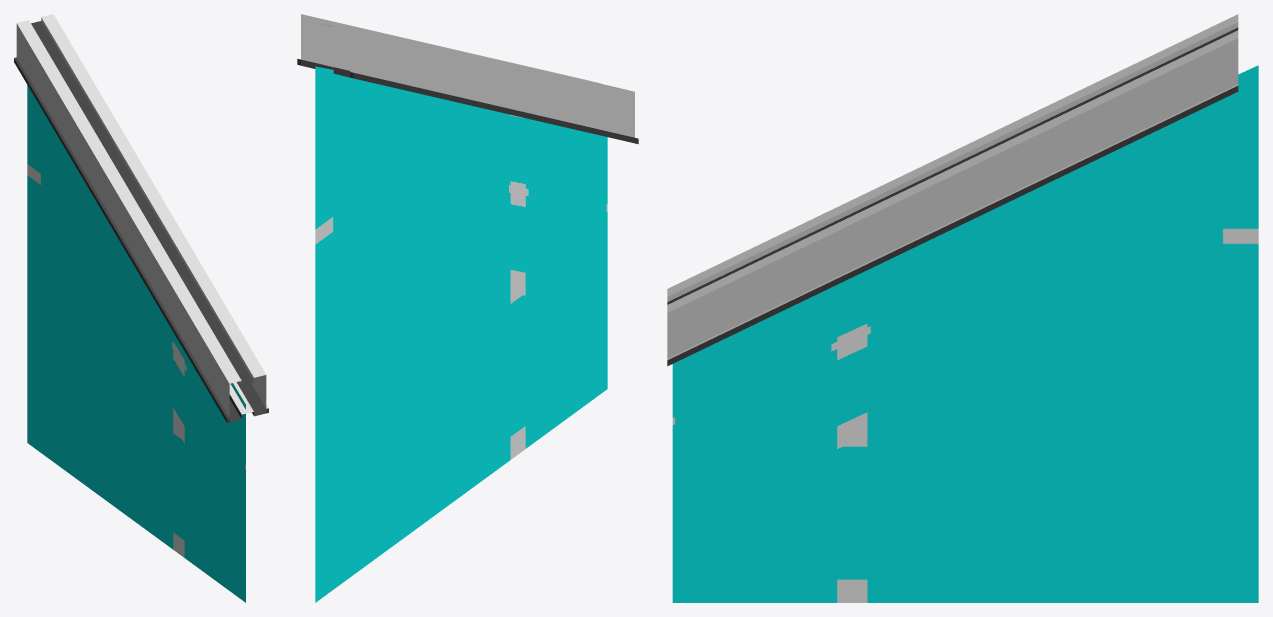
File: ModDiv_Panel_SmallGrad2.fbx
3 renders of one model, left to right at view 1: azimuth 30°, elevation 25°; view 2: azimuth 150°, elevation 25°; view 3: azimuth 270°, elevation 25°, orthographic. The views are drawn at different scales.
Visible parts, largest first — view 1: short_gradient_2; view 2: short_gradient_2; view 3: short_gradient_2.
Boxes of the visible parts, box(x1,y1,x2,y2) form: short_gradient_2: box(14, 14, 268, 602); short_gradient_2: box(297, 14, 638, 602); short_gradient_2: box(667, 14, 1258, 602).
Bounding box in the file's own units: 34.15 × 334 × 311.
3 materials, 1 textured.
